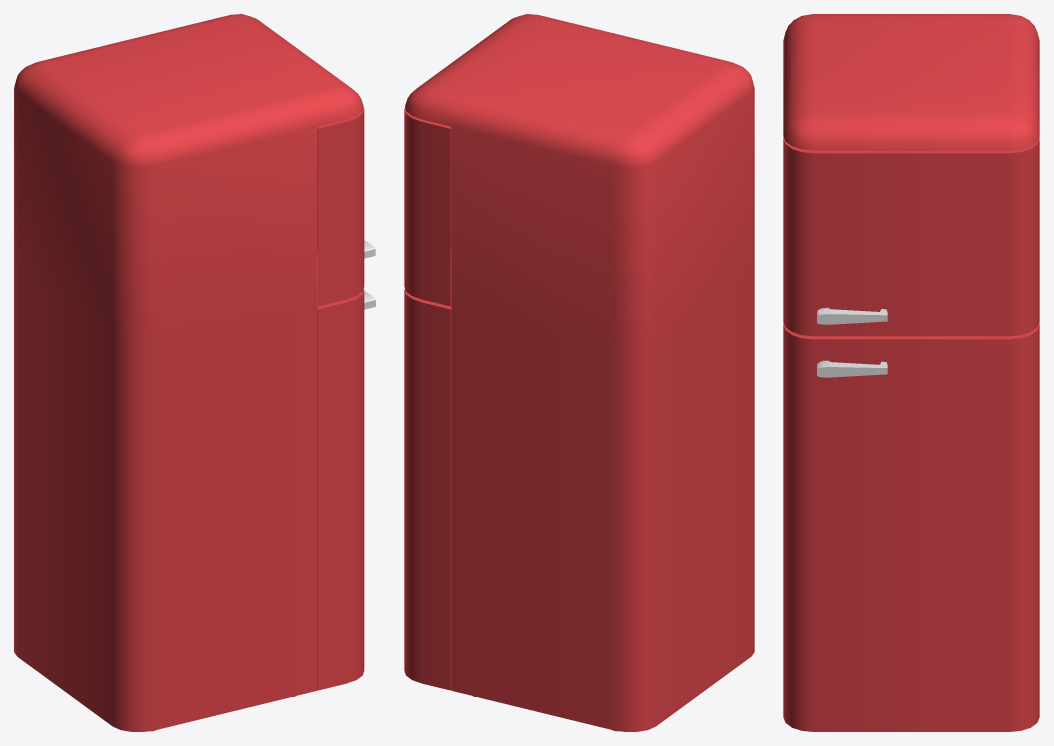
Rendered from Fridge_2.0(1).fbx.
3 renders of one model, left to right at view 1: azimuth 30°, elevation 25°; view 2: azimuth 150°, elevation 25°; view 3: azimuth 270°, elevation 25°, orthographic. The views are drawn at different scales.
Visible parts, largest first — view 1: Fridge body, Fridge door, Fridge door 2; view 2: Fridge body, Fridge door, Fridge door 2; view 3: Fridge door, Fridge door 2, Fridge body.
Boxes of the visible parts, x1=… form: Fridge body: x1=14, y1=14, x2=363, y2=731; Fridge door: x1=317, y1=289, x2=375, y2=690; Fridge door 2: x1=317, y1=108, x2=375, y2=306; Fridge body: x1=405, y1=14, x2=754, y2=731; Fridge door: x1=404, y1=289, x2=451, y2=690; Fridge door 2: x1=404, y1=108, x2=451, y2=306; Fridge door: x1=783, y1=322, x2=1039, y2=731; Fridge door 2: x1=783, y1=136, x2=1039, y2=336; Fridge body: x1=783, y1=14, x2=1039, y2=150.
Size of the model in its own units: 73.83 by 157 by 60.
